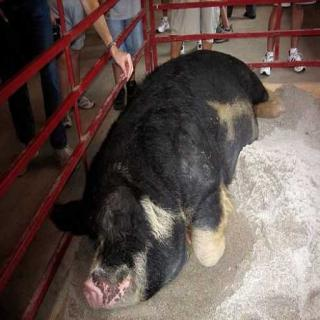Pig: (53, 34, 296, 320)
